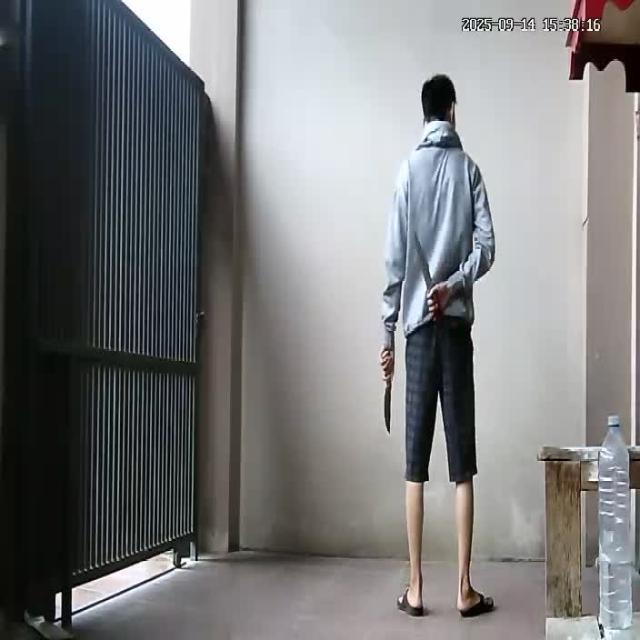senjata_tajam: (412, 228, 435, 294), (384, 379, 394, 435)
